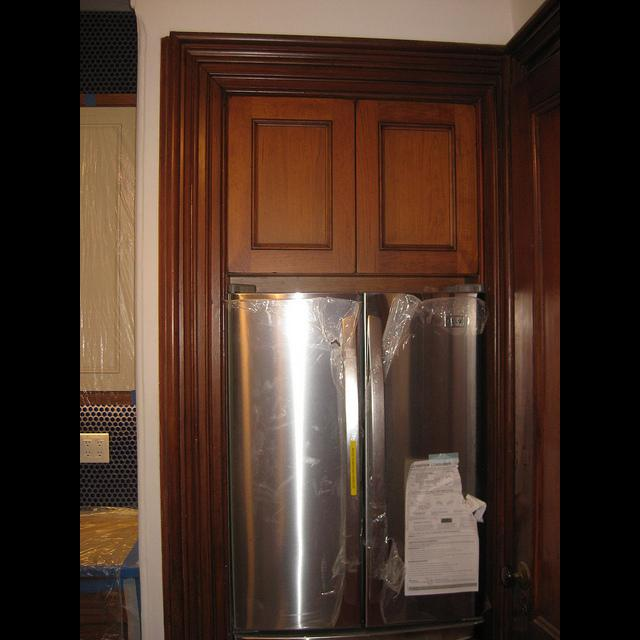Refrigerator: (230, 289, 483, 633)
